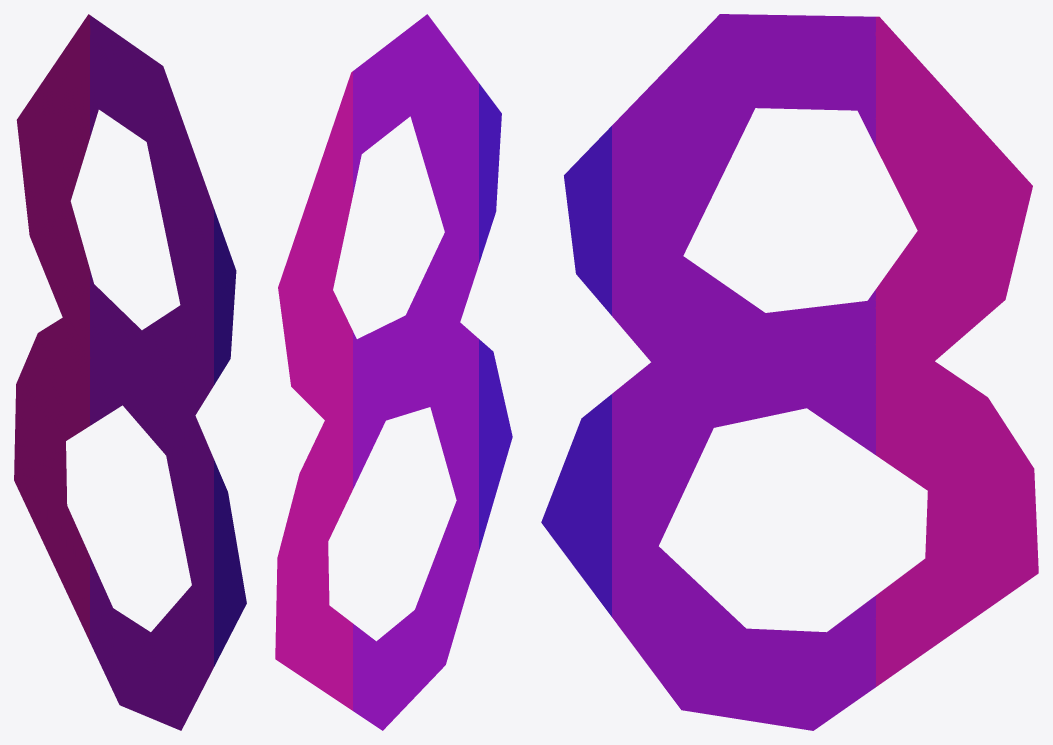
File: number_8.obj
3 renders of one model, left to right at view 1: azimuth 30°, elevation 25°; view 2: azimuth 150°, elevation 25°; view 3: azimuth 270°, elevation 25°, orthographic. The views are drawn at different scales.
Visible parts, largest first — view 1: number_8; view 2: number_8; view 3: number_8.
Boxes of the visible parts, bbox=[...] form: number_8: bbox=[14, 14, 246, 730]; number_8: bbox=[275, 14, 512, 730]; number_8: bbox=[541, 14, 1038, 730].
Size of the model in its own units: 1.97e-06 by 6.78 by 4.27.
1 material, 1 textured.
